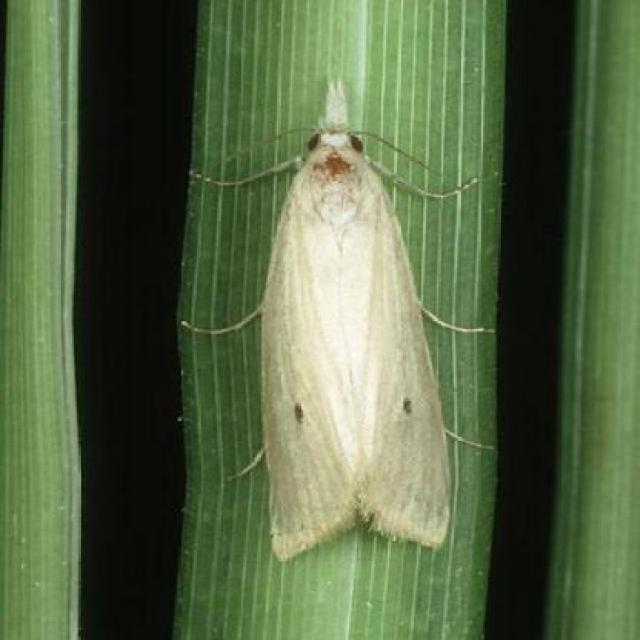stem-borer: (223, 71, 472, 563)
